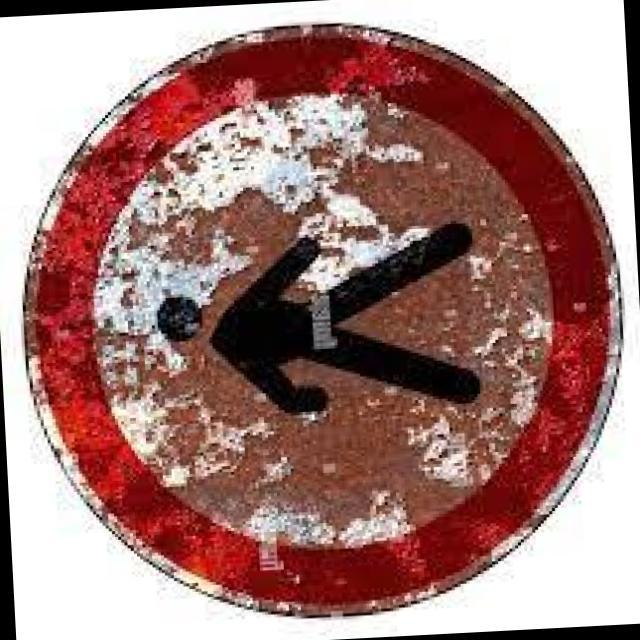obstructed_road_sign: (25, 16, 628, 627)
